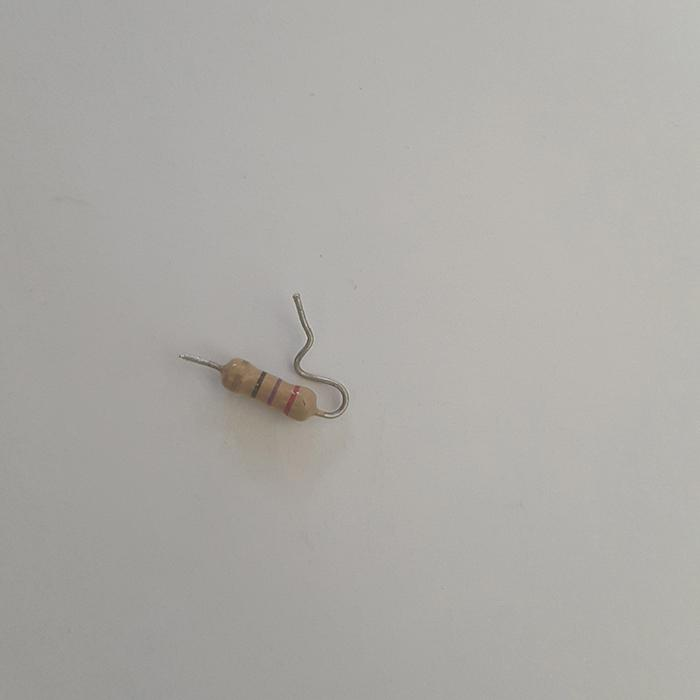resistor: (212, 357, 320, 422)
